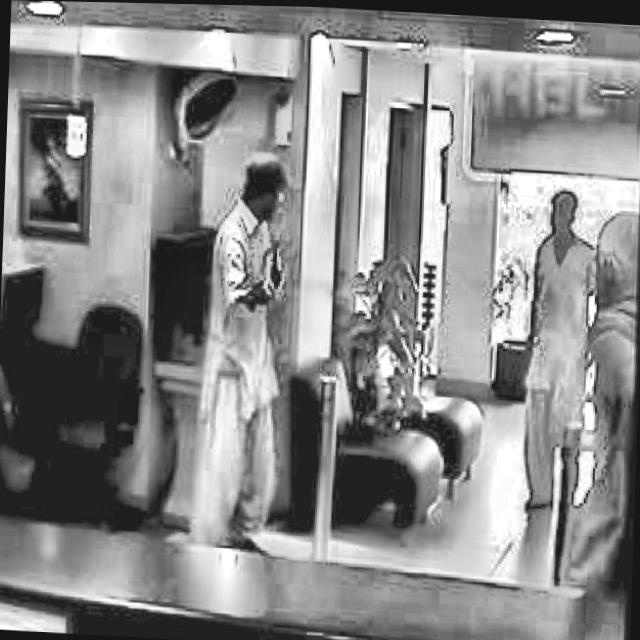robbery: (196, 145, 300, 551)
